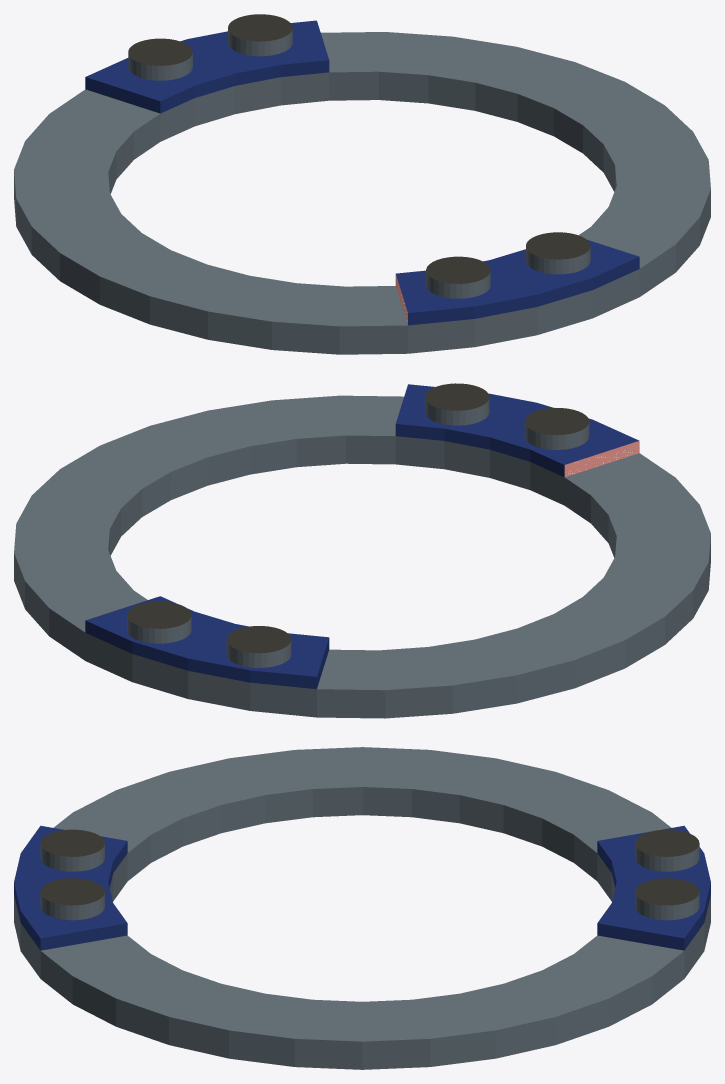
Rendered from tunnelring.fbx.
3 views of the same model, one above another, from view 1: azimuth 30°, elevation 25°; view 2: azimuth 150°, elevation 25°; view 3: azimuth 270°, elevation 25° (orthographic).
Visible parts, largest first — view 1: Cylinder; view 2: Cylinder; view 3: Cylinder.
Boxes of the visible parts, bbox=[...] form: Cylinder: bbox=[14, 14, 710, 354]; Cylinder: bbox=[14, 383, 710, 718]; Cylinder: bbox=[14, 747, 710, 1069].
Bounding box in the file's own units: 200 × 17.53 × 200.
